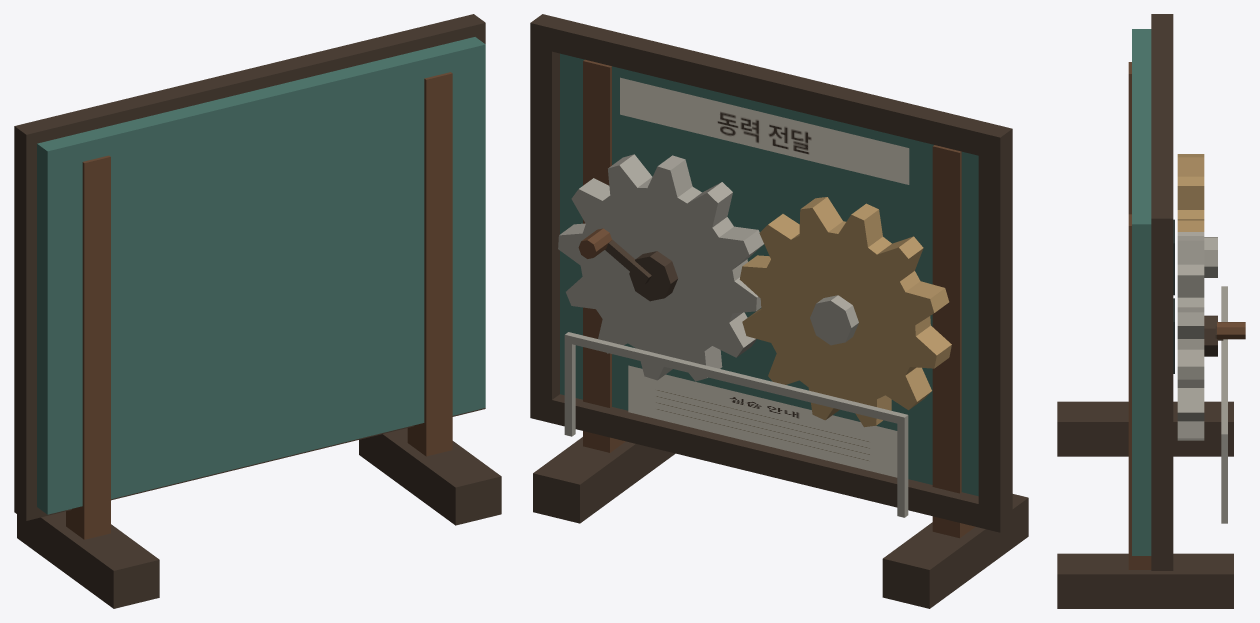
Rendered from T04_Gear_Teaching_Stand.fbx.
The picture shows the model from 3 angles, left to right: view 1: azimuth 30°, elevation 25°; view 2: azimuth 150°, elevation 25°; view 3: azimuth 270°, elevation 25°; orthographic projection. The views are drawn at different scales.
Parts seen in each view (by area): view 1: Structure; view 2: Structure, Gear_L, Gear_R, Diagram, Title, Crank; view 3: Structure, Gear_R, Gear_L, Crank.
Part boxes in pixels (x1,y1,x2,y2): Structure: (14, 14, 501, 608); Structure: (530, 14, 1028, 608); Gear_L: (739, 197, 951, 427); Gear_R: (558, 154, 763, 381); Diagram: (628, 365, 897, 477); Title: (620, 77, 909, 184); Crank: (578, 228, 651, 284); Structure: (1057, 14, 1233, 608); Gear_R: (1177, 232, 1217, 440); Gear_L: (1177, 154, 1217, 277); Crank: (1215, 322, 1245, 340).
Size of the model in its own units: 2.7 by 2.5 by 1.05.
7 materials, 1 textured.
